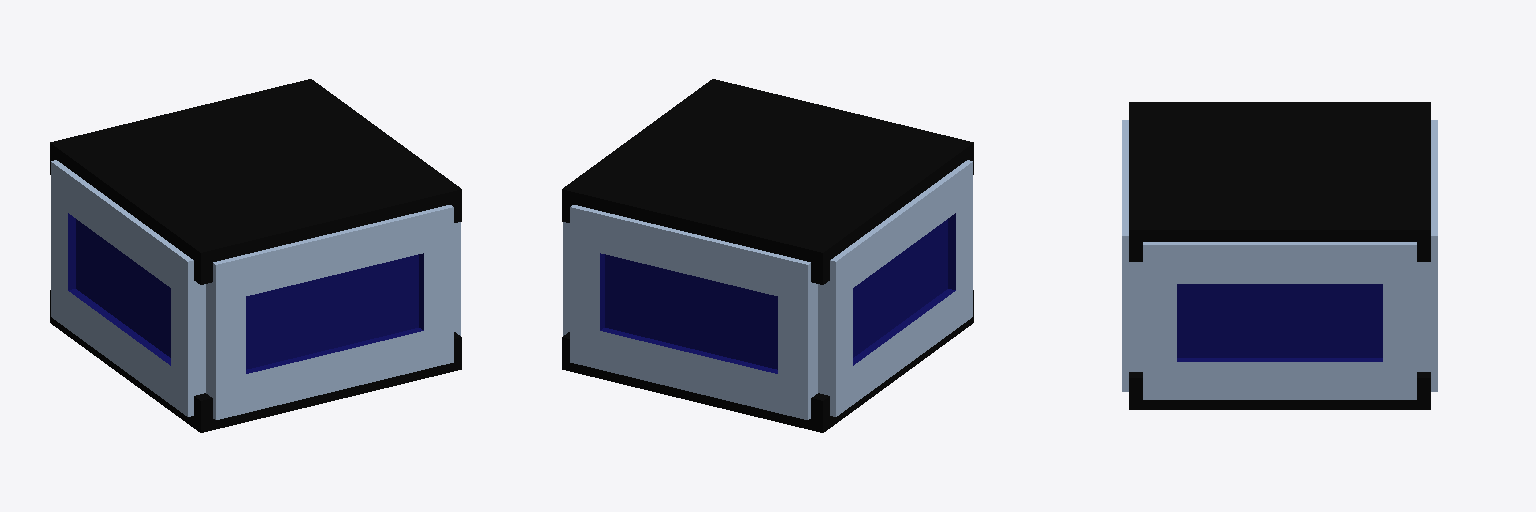
The picture shows the model from 3 angles: view 1: azimuth 30°, elevation 25°; view 2: azimuth 150°, elevation 25°; view 3: azimuth 270°, elevation 25°; orthographic projection.
Visible parts, largest first — view 1: BasicFloor_1_Cube.004, BasicWall_3.002_Cube.008, BasicWall_3.003_Cube.009, BasicFloor_2_Cube.005, BasicWall_3.001_Cube.007; view 2: BasicFloor_1_Cube.004, BasicWall_3_Cube.001, BasicWall_3.003_Cube.009, BasicFloor_2_Cube.005, BasicWall_3.001_Cube.007; view 3: BasicWall_3.001_Cube.007, BasicFloor_1_Cube.004, BasicFloor_2_Cube.005, BasicWall_3_Cube.001, BasicWall_3.002_Cube.008.
Part boxes in pixels (x1,y1,x2,y2): BasicFloor_1_Cube.004: (50, 79, 461, 284); BasicWall_3.002_Cube.008: (206, 205, 453, 419); BasicWall_3.003_Cube.009: (51, 160, 205, 416); BasicFloor_2_Cube.005: (50, 290, 461, 432); BasicWall_3.001_Cube.007: (454, 222, 460, 335); BasicFloor_1_Cube.004: (562, 79, 973, 284); BasicWall_3_Cube.001: (570, 205, 817, 419); BasicWall_3.003_Cube.009: (818, 160, 972, 416); BasicFloor_2_Cube.005: (562, 290, 973, 432); BasicWall_3.001_Cube.007: (563, 222, 569, 335); BasicWall_3.001_Cube.007: (1143, 242, 1416, 399); BasicFloor_1_Cube.004: (1129, 102, 1430, 261); BasicFloor_2_Cube.005: (1129, 372, 1430, 409); BasicWall_3_Cube.001: (1417, 120, 1437, 391); BasicWall_3.002_Cube.008: (1122, 120, 1142, 391).
Bounding box in the file's own units: 4.6 × 2.9 × 4.6.
1 materials, 1 textured.